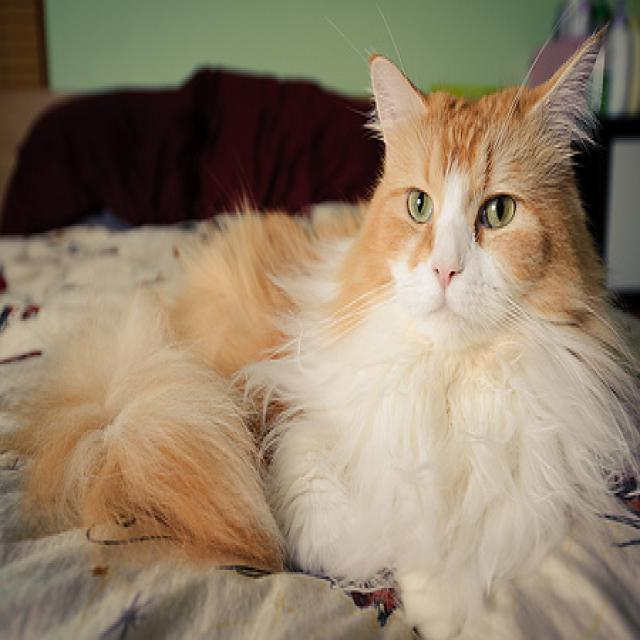Maine Coon: (13, 22, 640, 640)
